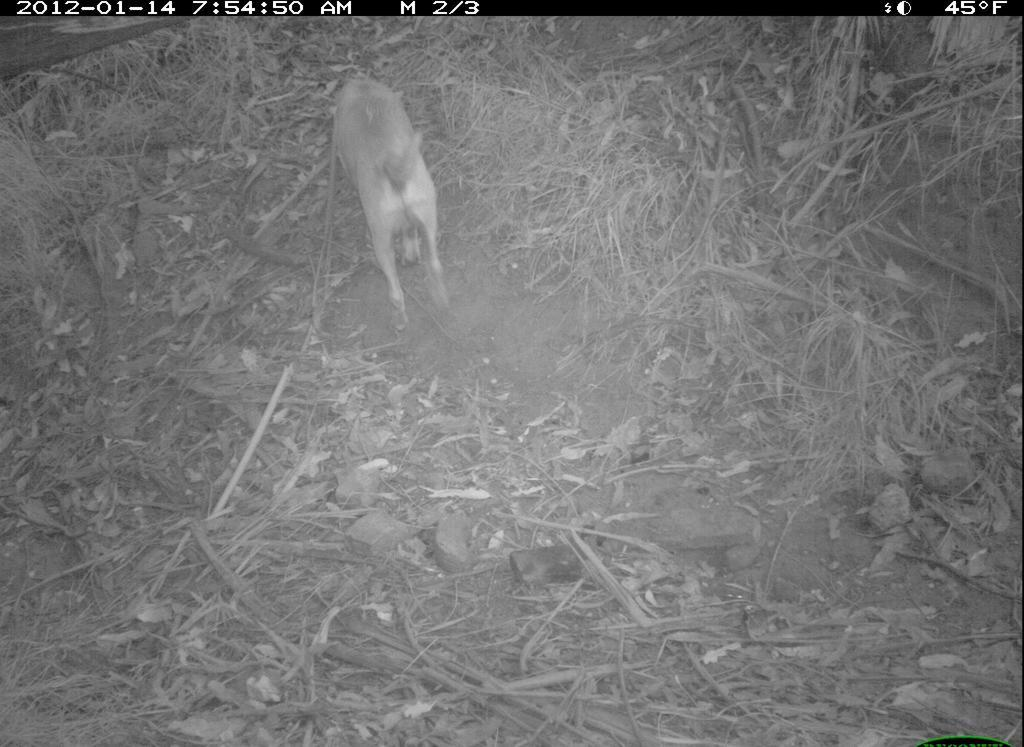dog: (317, 59, 461, 327)
